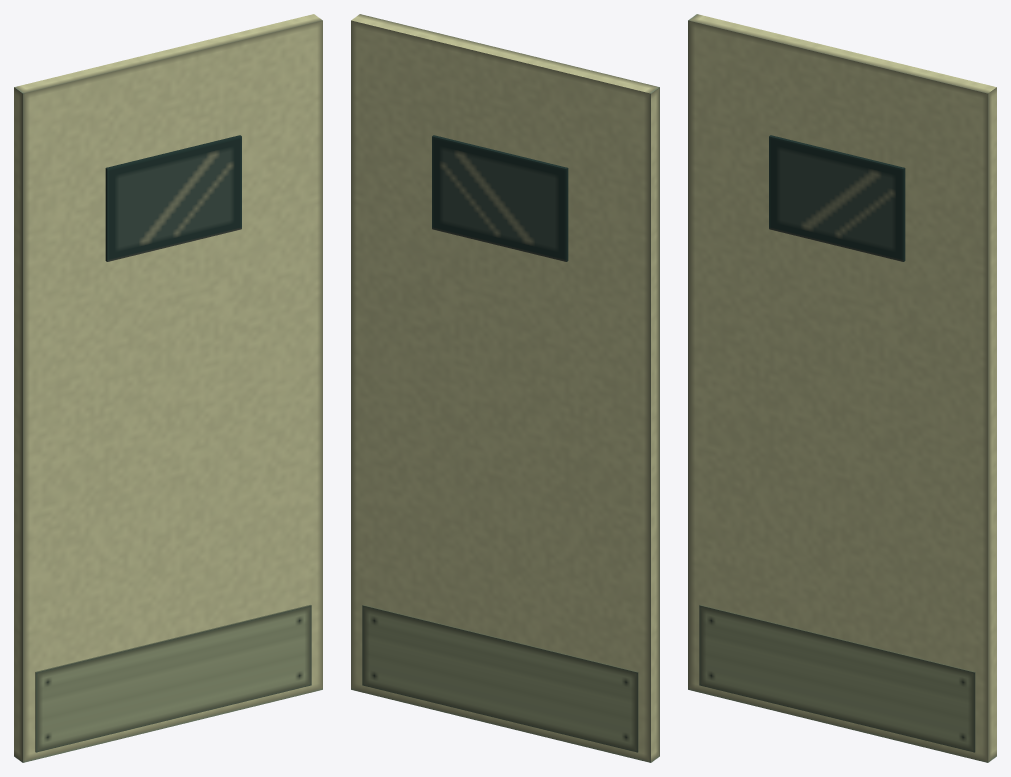
File: SM_Lab_DoorLeaf_Standard_98x209.fbx
3 renders of one model, left to right at view 1: azimuth 30°, elevation 25°; view 2: azimuth 150°, elevation 25°; view 3: azimuth 330°, elevation 25°, orthographic.
Parts seen in each view (by area): view 1: SM_Lab_DoorLeaf_Standard_98x209; view 2: SM_Lab_DoorLeaf_Standard_98x209; view 3: SM_Lab_DoorLeaf_Standard_98x209.
Part boxes in pixels (box(x1,y1,x2,y2)): SM_Lab_DoorLeaf_Standard_98x209: box(14, 14, 322, 762); SM_Lab_DoorLeaf_Standard_98x209: box(351, 14, 659, 762); SM_Lab_DoorLeaf_Standard_98x209: box(688, 14, 996, 762).
Size of the model in its own units: 0.98 by 2.09 by 0.07.
